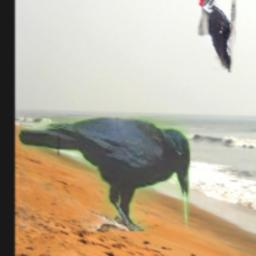Crow: (20, 117, 191, 232)
Woodpecker: (198, 0, 236, 72)
